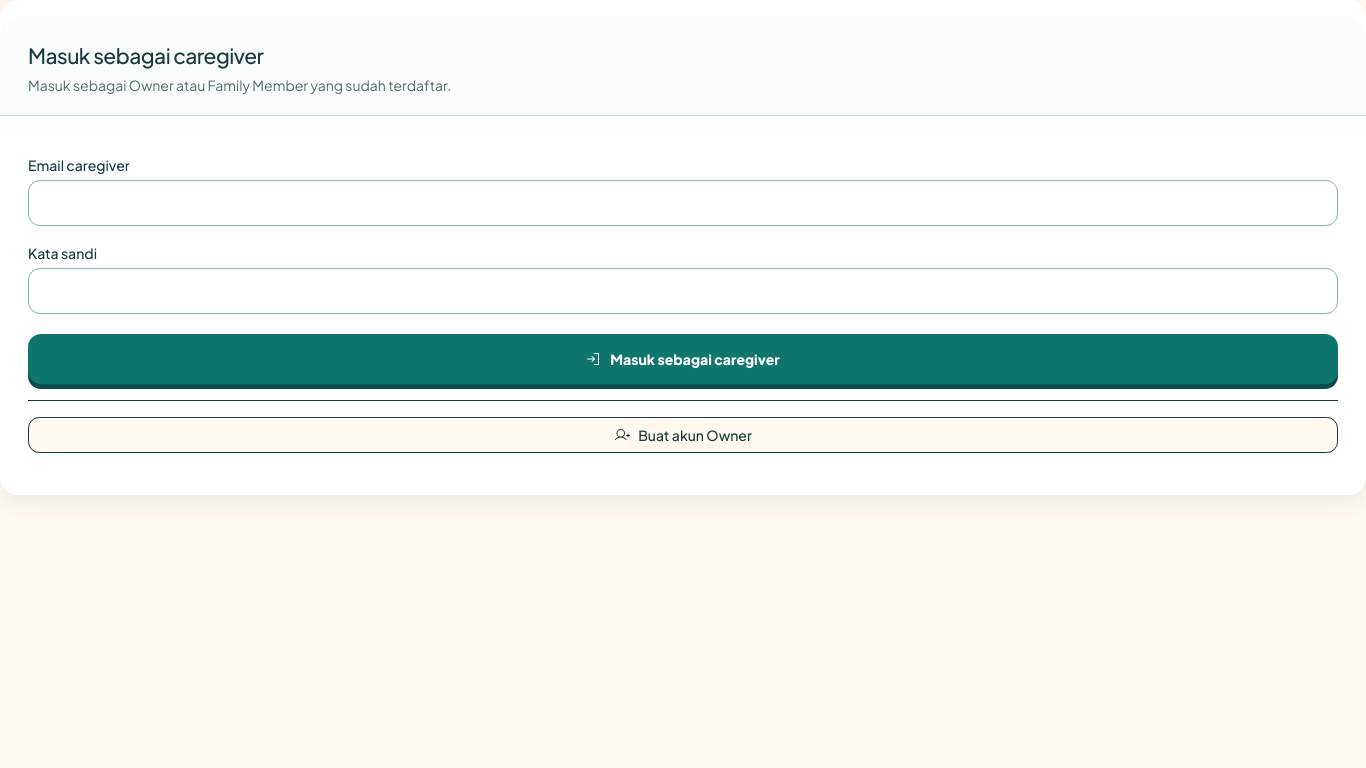
Scenario: caregiver auth panel › shows a generic error without provider detail when sign-in fails
Type "owner@example.com" into the field labelled "Email caregiver" at (683, 203), box left=28, top=180, right=1338, bottom=226
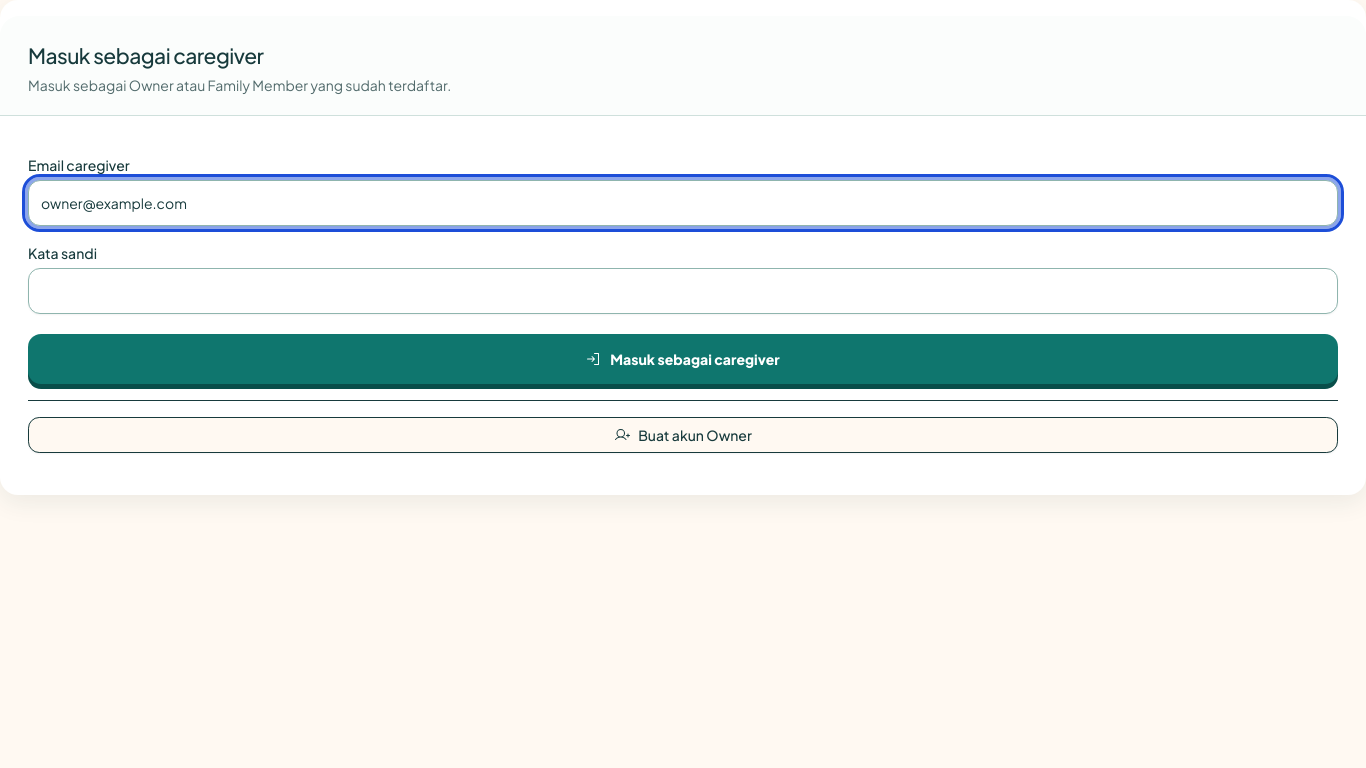
Type "wrong-password" into the password field labelled "Kata sandi" at (683, 291), box left=28, top=268, right=1338, bottom=314
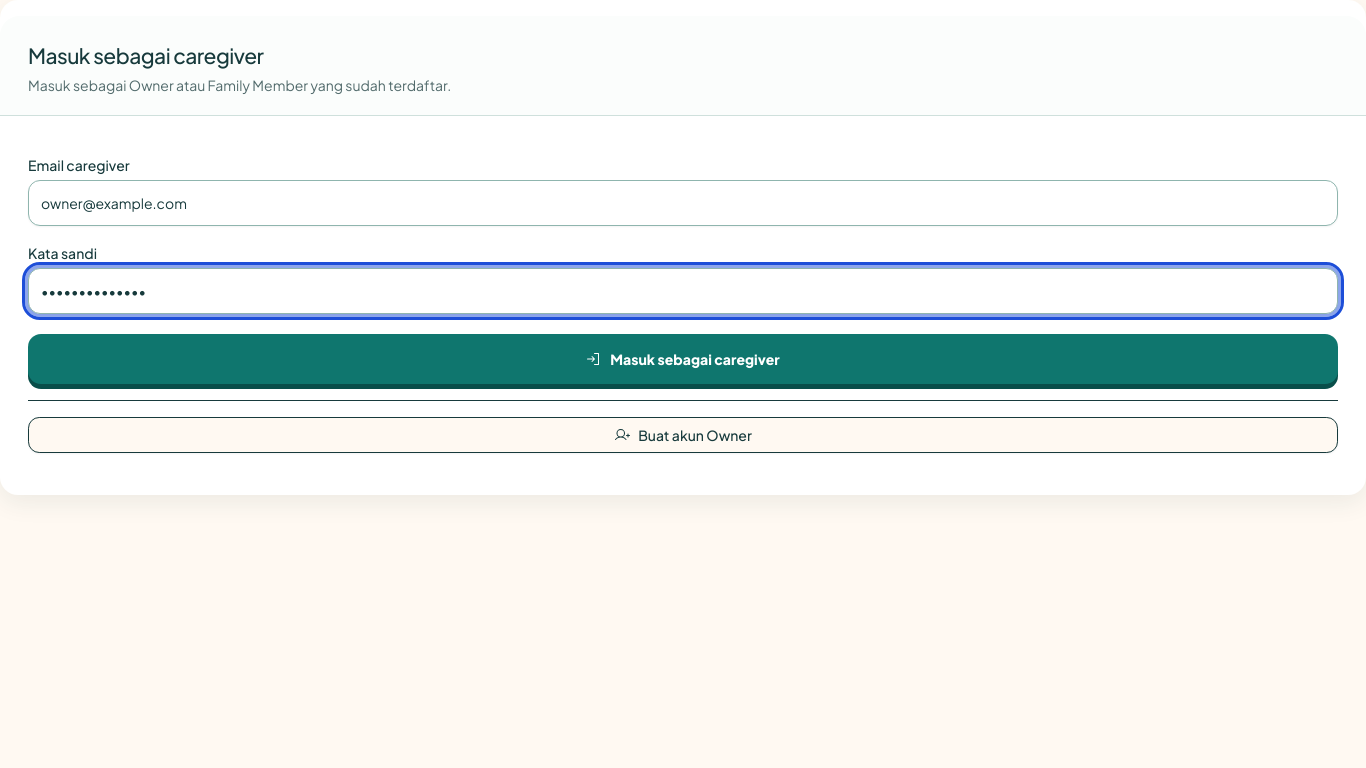
Click the button "Masuk sebagai caregiver" at (683, 359), box left=28, top=334, right=1338, bottom=384
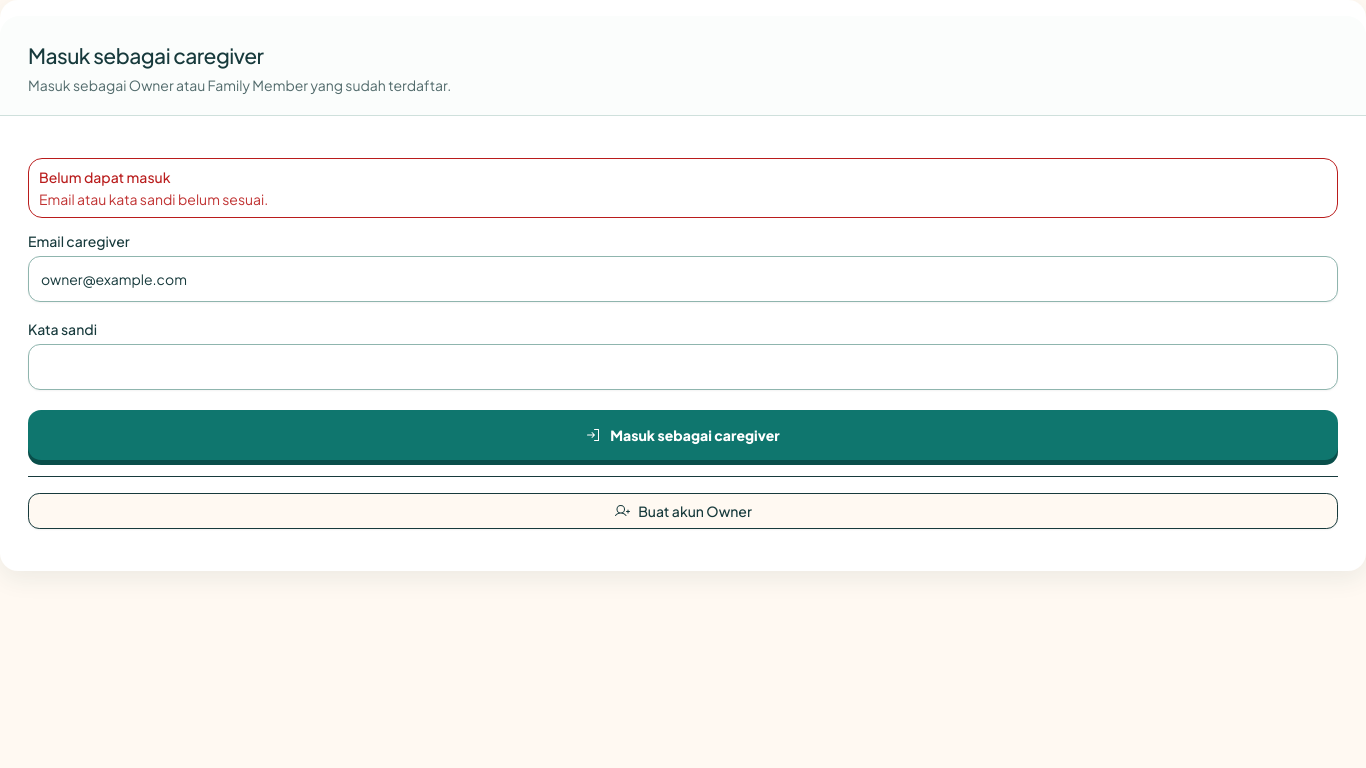
Result: the password field labelled "Kata sandi" is empty at left=28, top=344, right=1338, bottom=390
Result: the text "Email atau kata sandi belum sesuai." is shown at left=39, top=190, right=268, bottom=208
